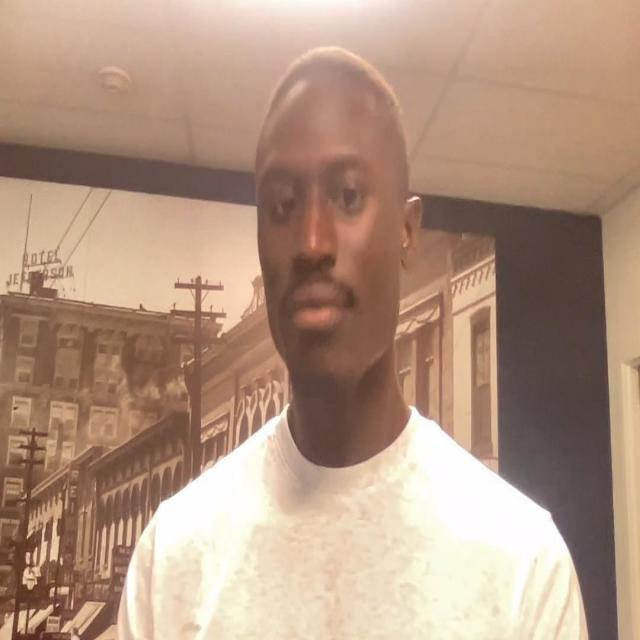face: (255, 85, 421, 402)
